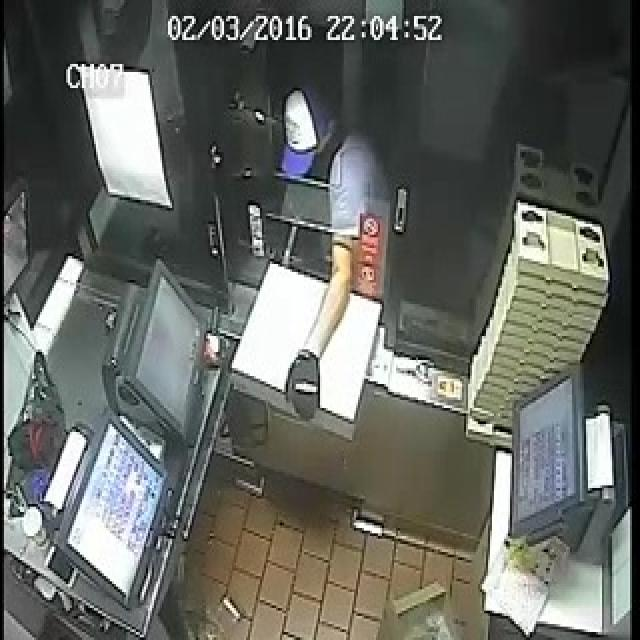thief: (268, 92, 368, 233)
